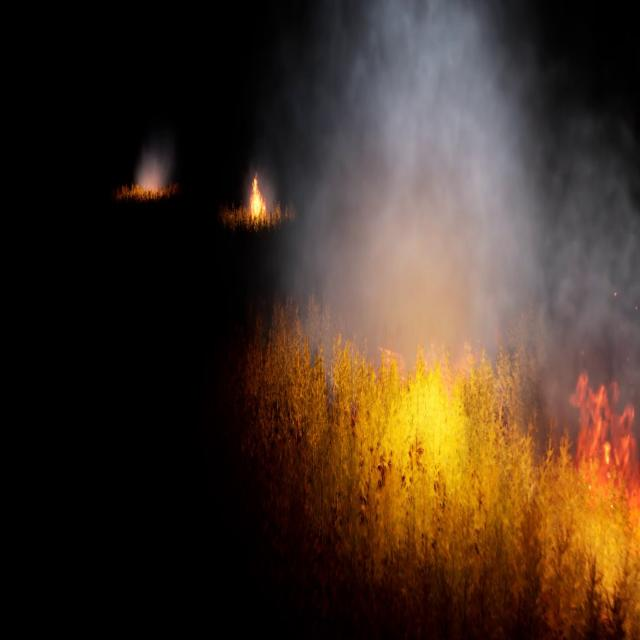fire: (260, 302, 640, 639), (249, 169, 265, 221)
smoke: (274, 0, 640, 457), (245, 159, 275, 215), (135, 152, 169, 192)
